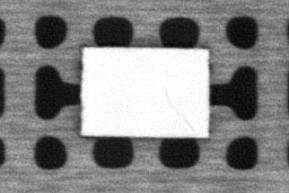DIE_CRACK: (163, 87, 195, 133)
